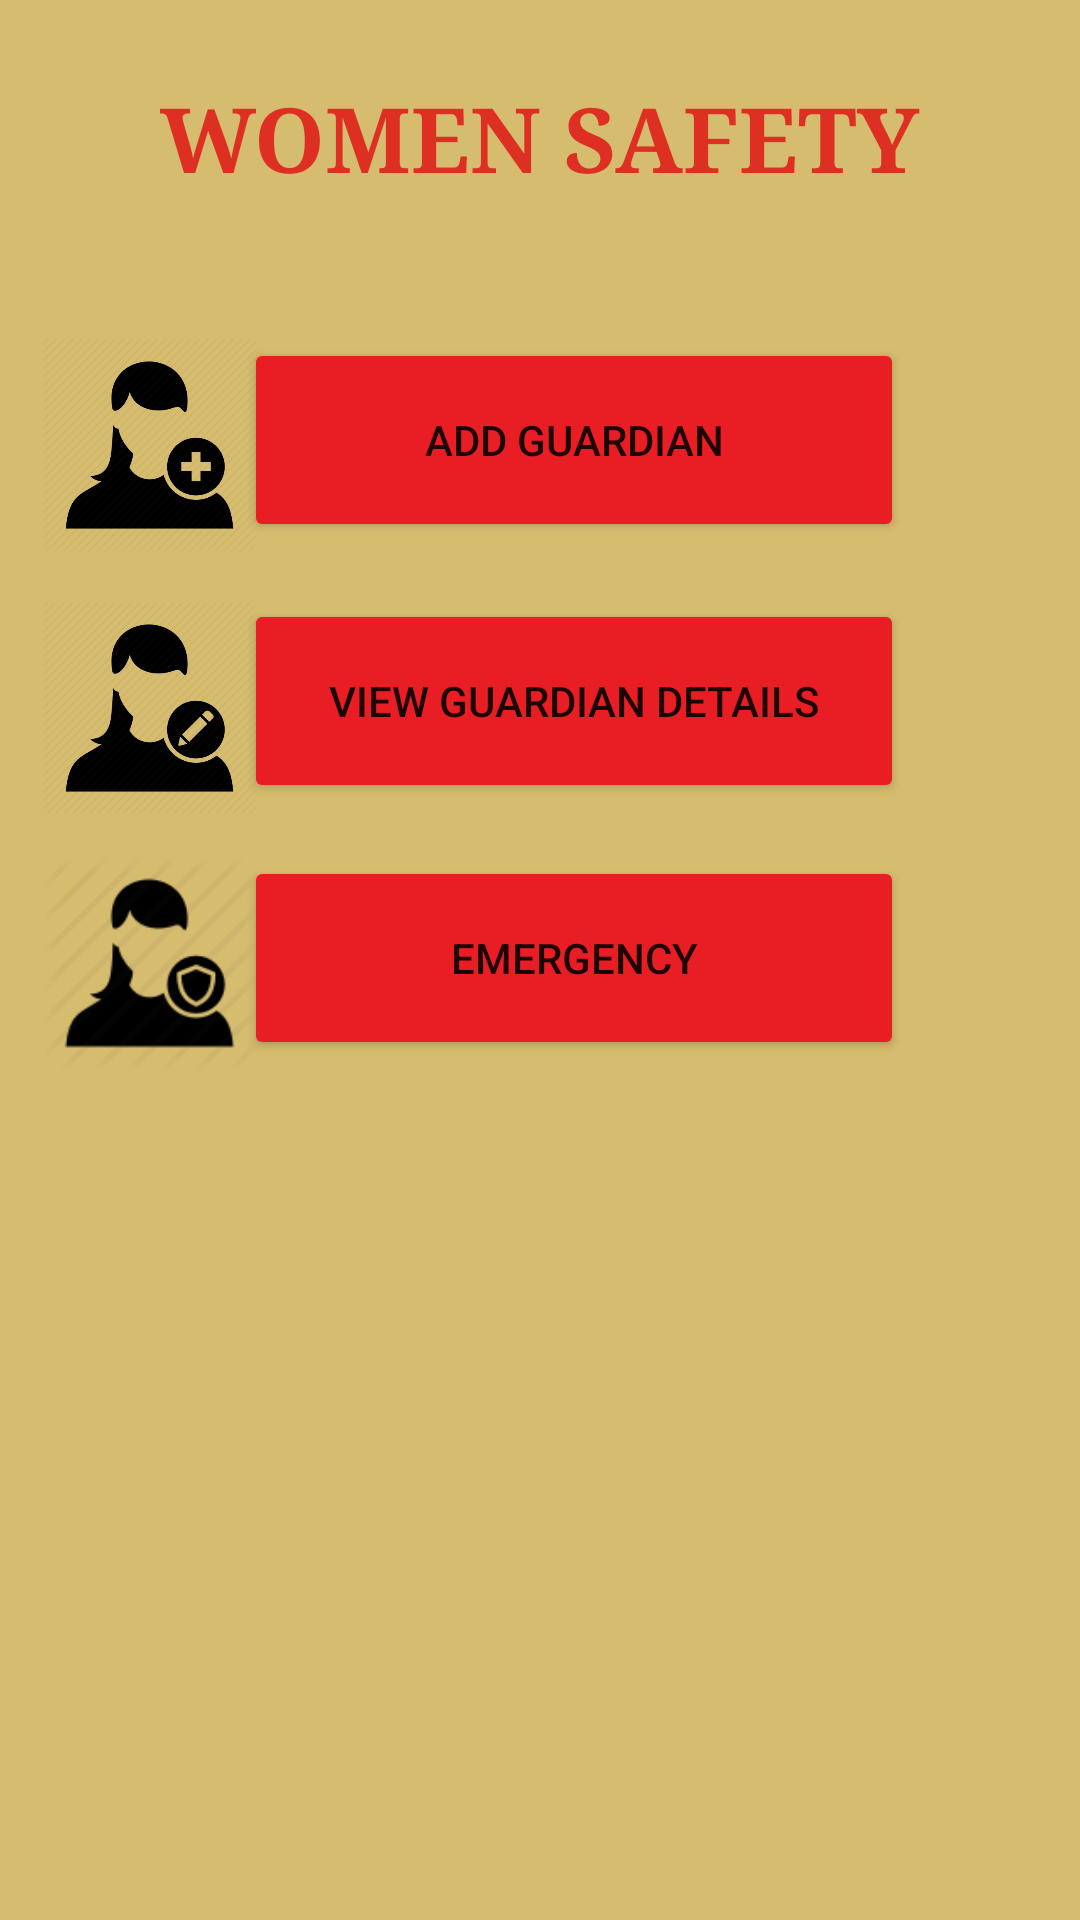

Locate icon controls on the screen. Image size 1080w x 1920h, boxes as Rect(x1, y1, x2, y2).
edit: Rect(66, 624, 233, 792)
